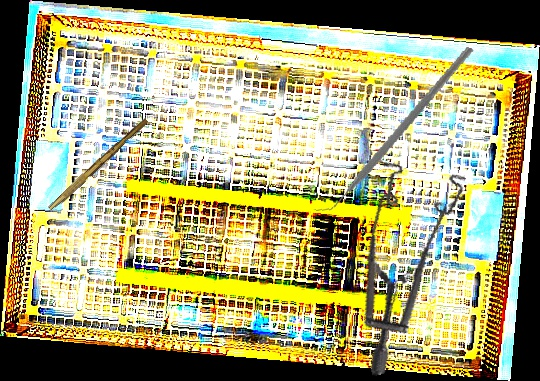Chopper: (310, 27, 475, 231)
Scalpel Handle: (47, 115, 150, 215)
Speculum: (323, 145, 507, 377)
